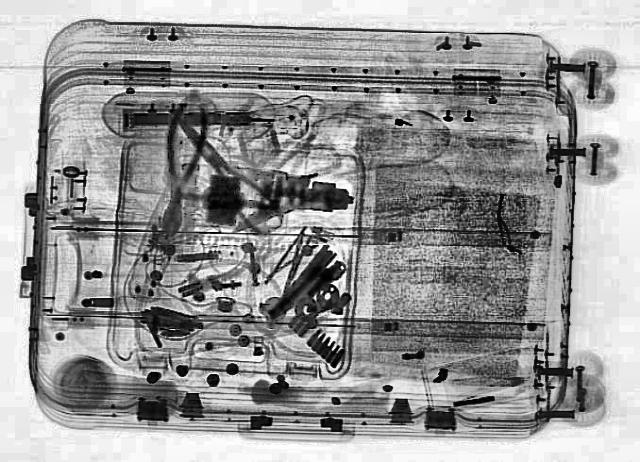Pliers: (157, 108, 295, 237), (148, 105, 210, 237)
